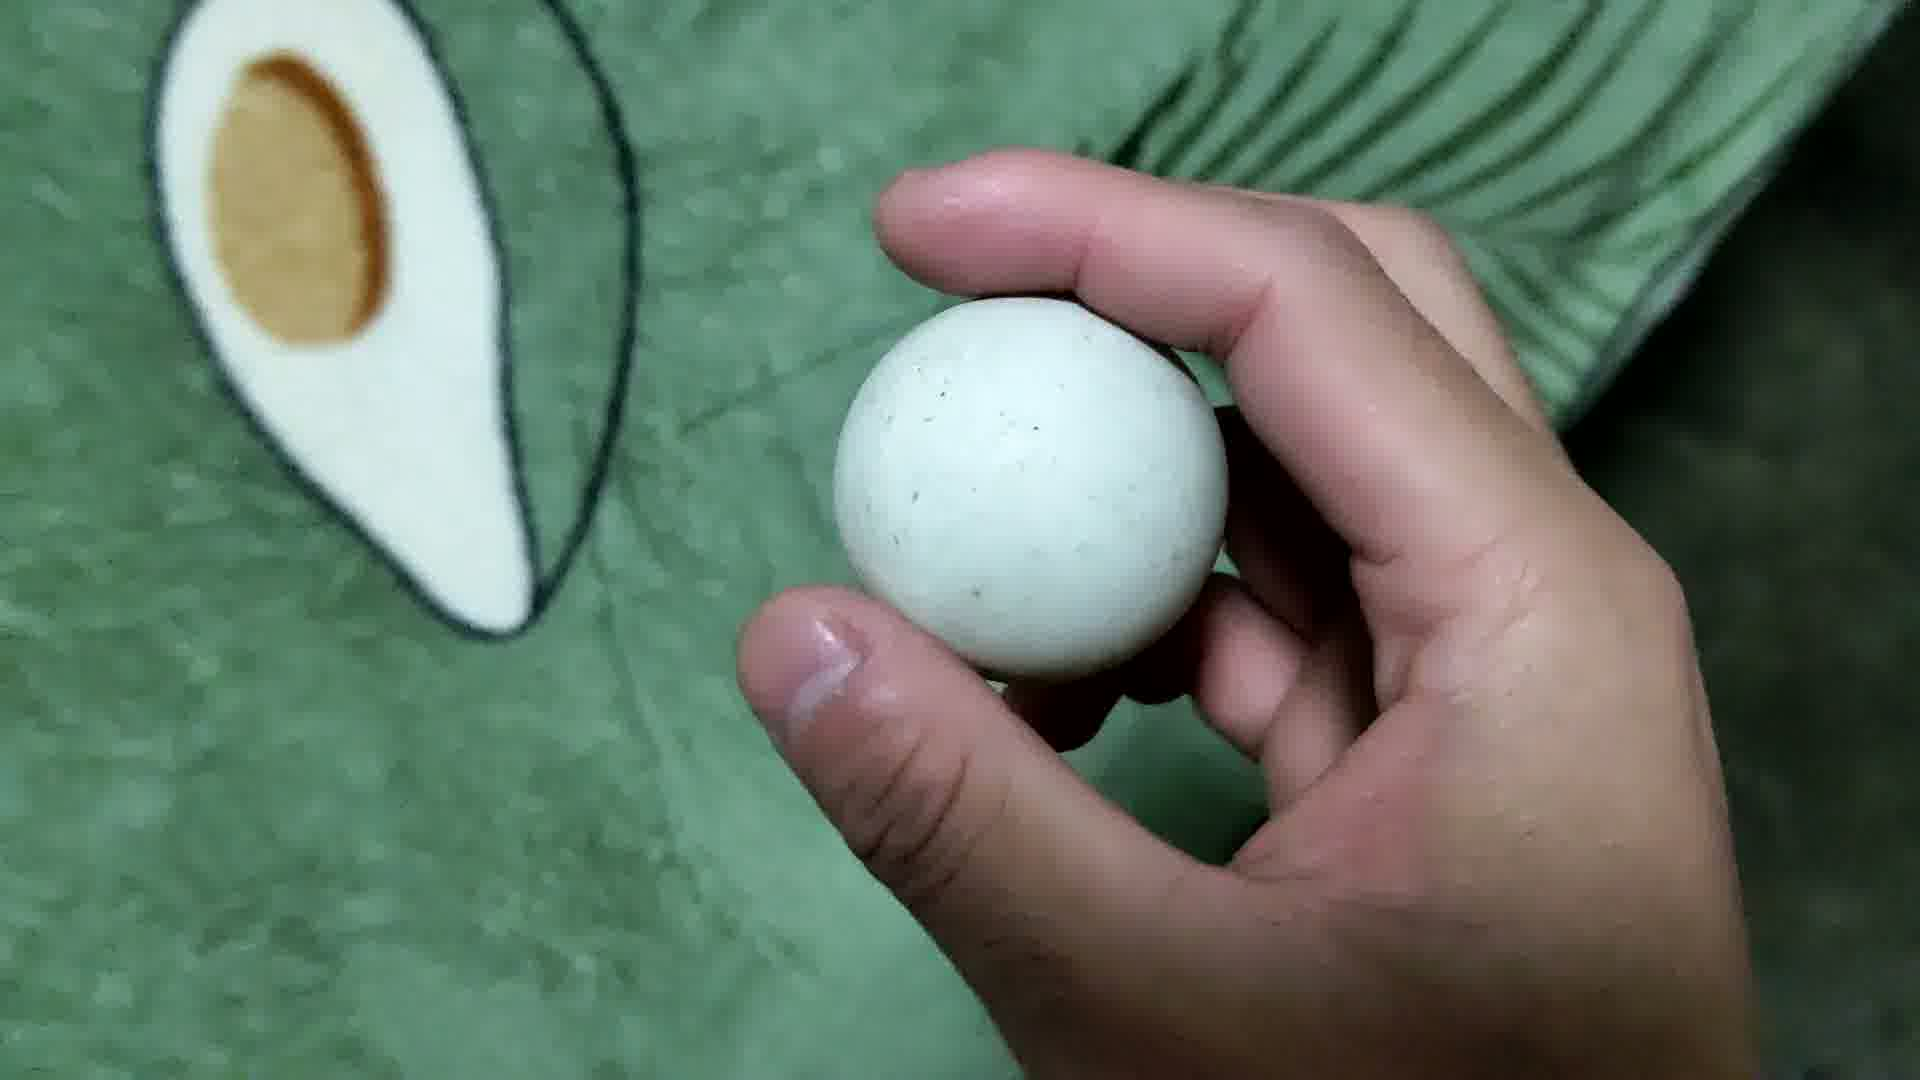Ball: (827, 298, 1222, 671)
